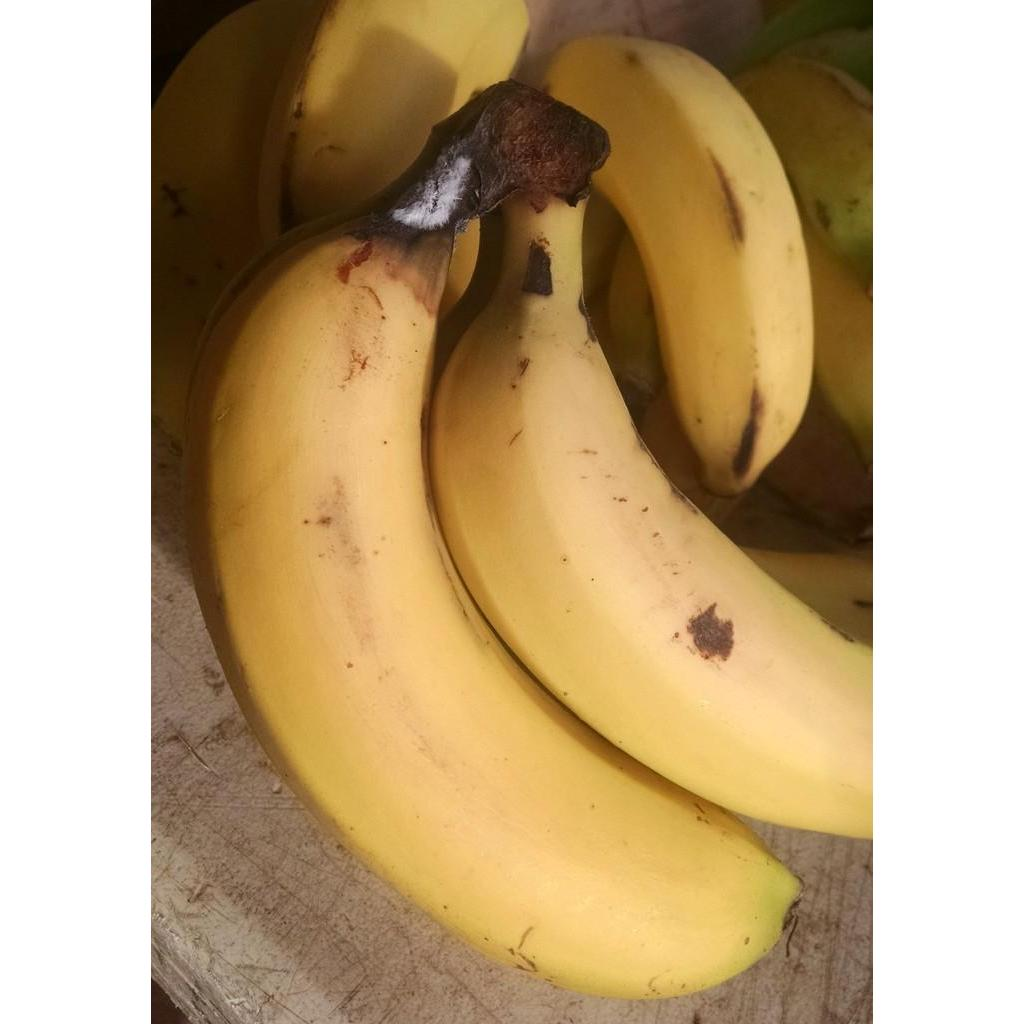banana: (181, 227, 801, 1004), (425, 199, 873, 847)
